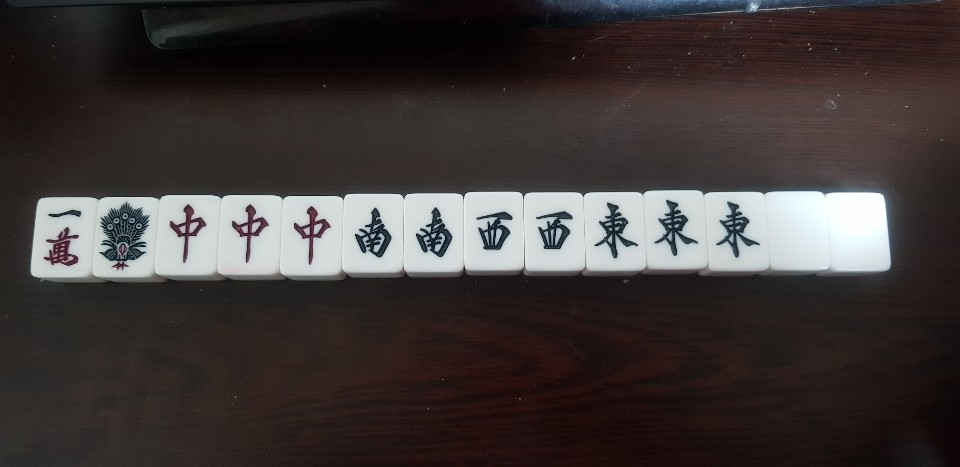honour_1: (641, 190, 706, 274), (706, 188, 770, 272), (588, 192, 649, 270)
honour_2: (399, 188, 465, 278), (349, 190, 404, 276)
honour_3: (524, 190, 591, 274), (465, 190, 524, 272)
honour_5: (824, 190, 897, 278), (766, 195, 831, 276)
honour_7: (152, 197, 222, 283), (215, 194, 279, 287), (281, 194, 347, 281)
man_1: (31, 197, 95, 279)
sou_1: (91, 197, 156, 287)
